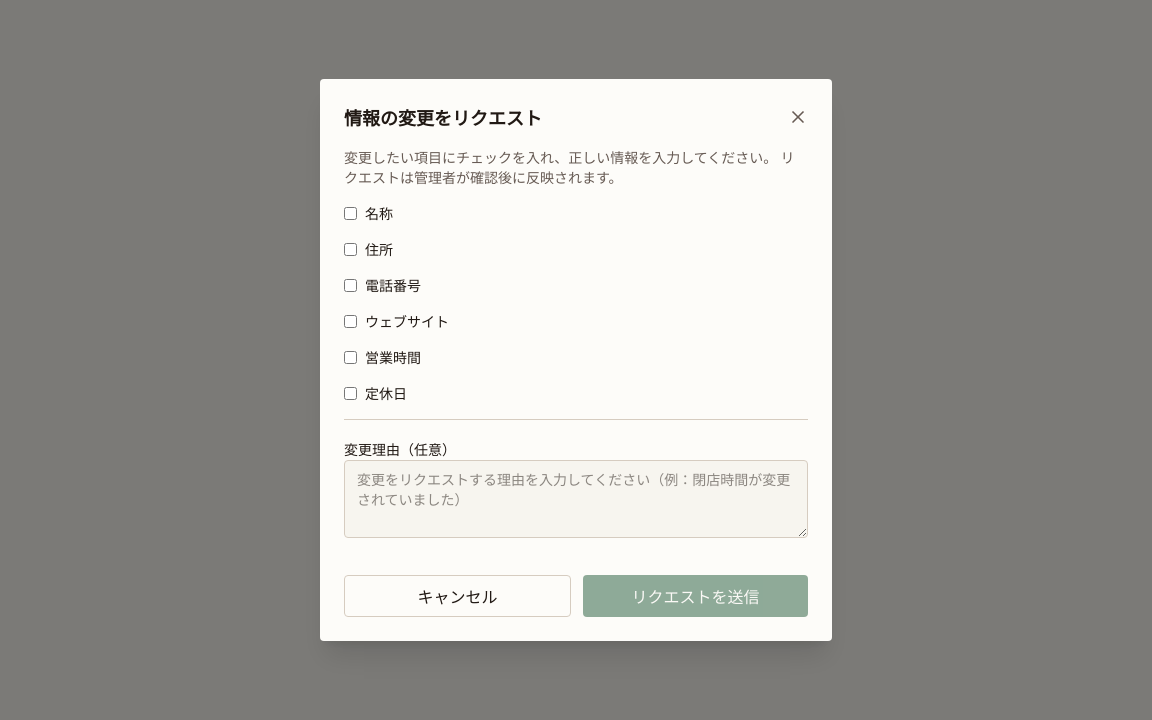
Test: ShopChangeRequestForm › 送信エラー時にエラーメッセージを表示する
Note: 名称をチェックして変更
Click the checkbox labelled "名称": [350, 213] box [344,206,357,220]
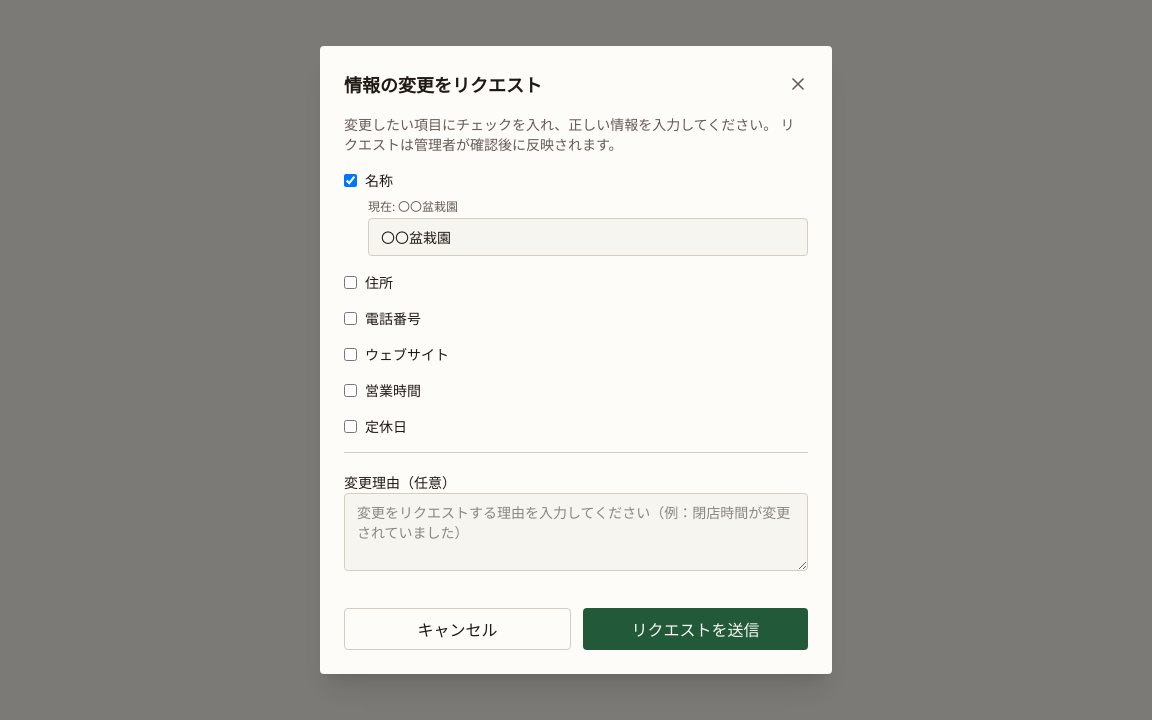
Replace the text in the field with placeholder "新しい名称" with "新しい盆栽園名": [588, 237] box [368,218,808,256]
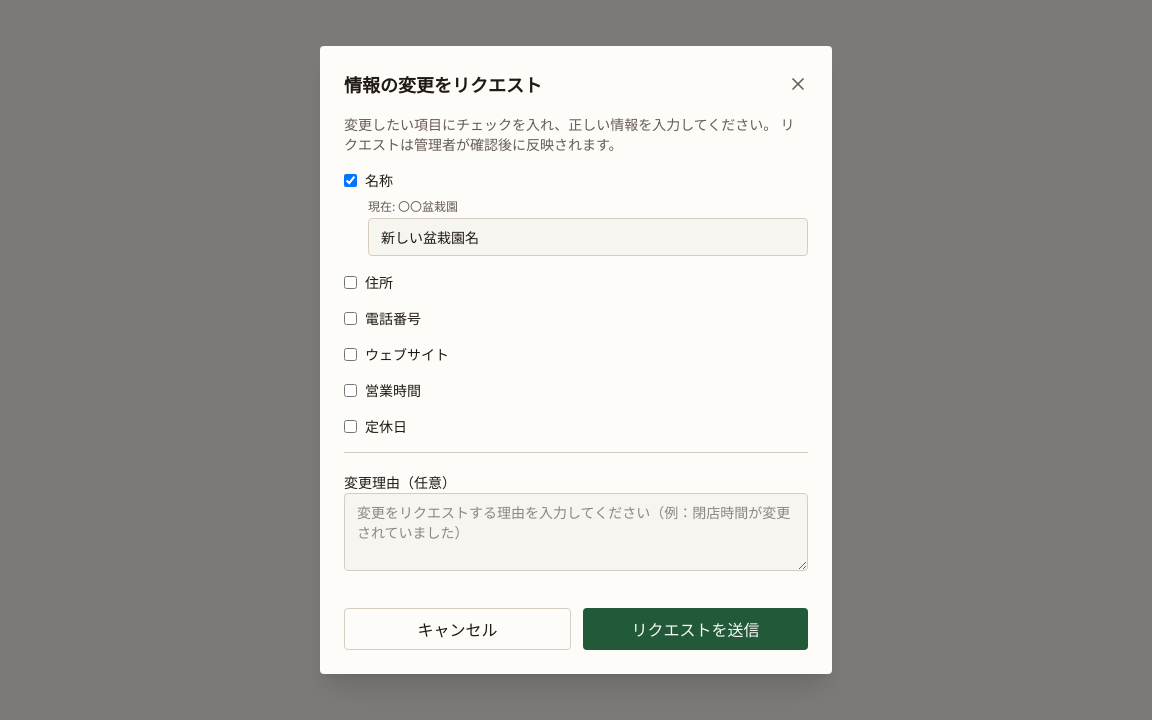
Click the button "リクエストを送信": [696, 629] box [583,608,808,650]
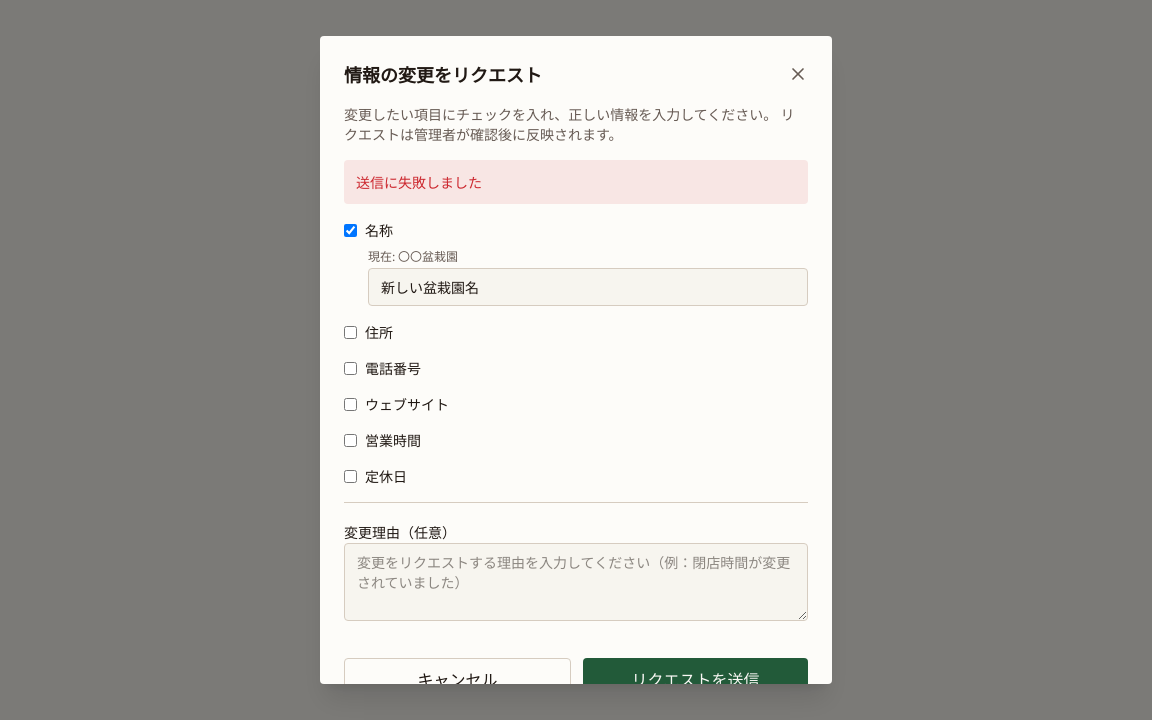
Check: the text "送信に失敗しました" is shown, box [344,160,808,204]
